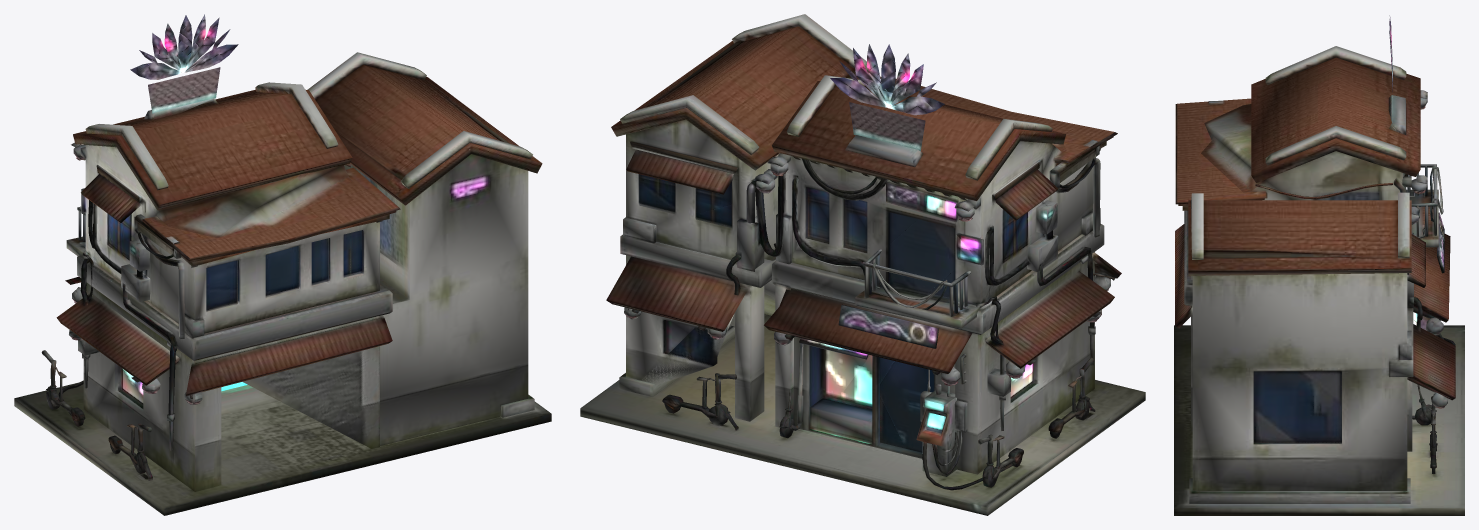
The model's file is neon_shophouse.glb.
3 views of the same model, side by side, from view 1: azimuth 30°, elevation 25°; view 2: azimuth 150°, elevation 25°; view 3: azimuth 270°, elevation 25° (orthographic). The views are drawn at different scales.
Visible parts, largest first — view 1: Body, Glow; view 2: Body, Glow; view 3: Body.
Boxes of the visible parts, box(x1,y1,x2,y2) form: Body: box(14, 14, 551, 515); Glow: box(82, 18, 247, 405); Body: box(580, 14, 1145, 515); Glow: box(799, 55, 1057, 445); Body: box(1174, 15, 1464, 515).
Size of the model in its own units: 9 by 8.61 by 6.04.
2 materials, 2 textured.
